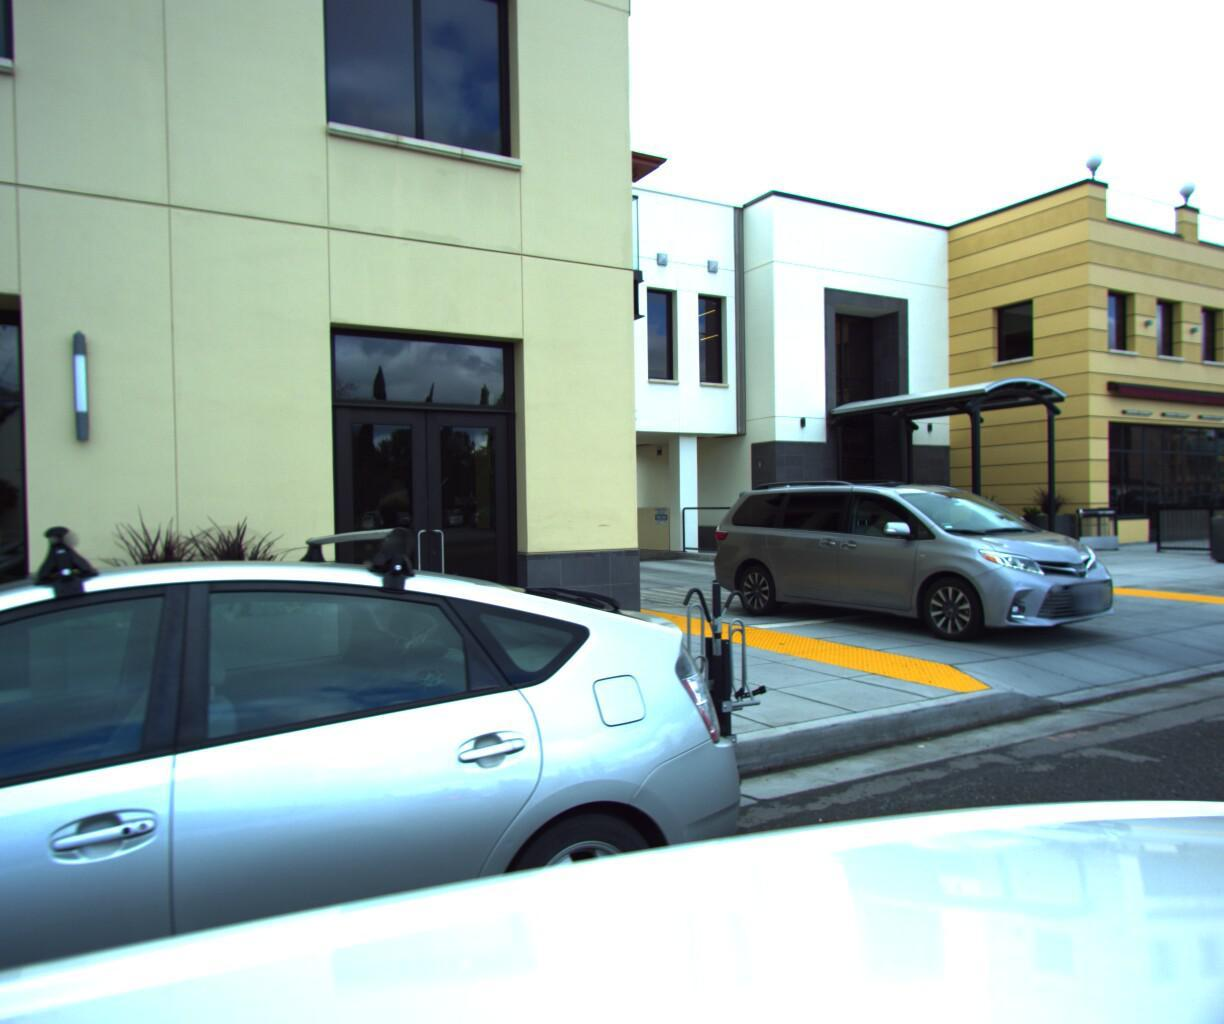car: (0, 524, 830, 1024), (708, 463, 1157, 658)
